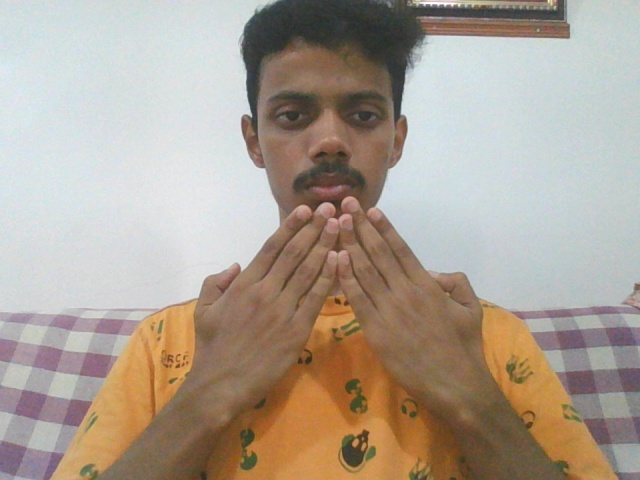ThankYou: (194, 197, 485, 402)
